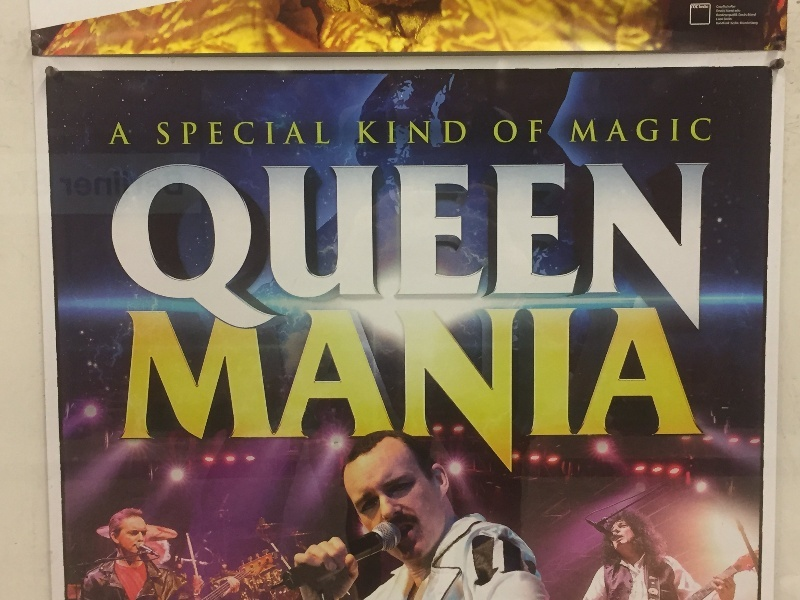text: (705, 310, 721, 477), (113, 161, 128, 334), (129, 161, 144, 334), (145, 161, 160, 334), (161, 161, 176, 334), (177, 161, 192, 334), (193, 161, 208, 334), (209, 161, 224, 334), (225, 161, 240, 334), (241, 161, 256, 334), (257, 161, 272, 334), (273, 161, 288, 334), (289, 161, 304, 334), (305, 161, 320, 334), (321, 161, 336, 334), (337, 161, 352, 334), (353, 161, 368, 334), (369, 161, 384, 334), (385, 161, 400, 334), (401, 161, 416, 334), (417, 161, 432, 334), (433, 161, 448, 334), (449, 161, 464, 334), (465, 161, 480, 334), (481, 161, 496, 334), (497, 161, 512, 334), (513, 161, 528, 334), (529, 161, 544, 334), (545, 161, 560, 334), (561, 161, 576, 334), (577, 161, 592, 334), (593, 161, 608, 334), (609, 161, 624, 334), (625, 161, 640, 334), (641, 161, 656, 334), (657, 161, 672, 334), (673, 161, 688, 334), (689, 161, 704, 334), (129, 310, 144, 477), (145, 310, 160, 477), (161, 310, 176, 477), (177, 310, 192, 477), (193, 310, 208, 477), (209, 310, 224, 477), (225, 310, 240, 477), (241, 310, 256, 477), (257, 310, 272, 477), (273, 310, 288, 477), (289, 310, 304, 477), (305, 310, 320, 477), (321, 310, 336, 477), (337, 310, 352, 477), (353, 310, 368, 477), (369, 310, 384, 477), (385, 310, 400, 477), (401, 310, 416, 477), (417, 310, 432, 477), (433, 310, 448, 477), (449, 310, 464, 477), (465, 310, 480, 477), (481, 310, 496, 477), (497, 310, 512, 477), (513, 310, 528, 477), (529, 310, 544, 477), (545, 310, 560, 477), (561, 310, 576, 477), (577, 310, 592, 477), (593, 310, 608, 477), (609, 310, 624, 477), (625, 310, 640, 477), (641, 310, 656, 477), (657, 310, 672, 477), (673, 310, 688, 477), (689, 310, 704, 477), (705, 161, 712, 334), (161, 121, 176, 147), (177, 121, 192, 147), (193, 121, 208, 147), (209, 121, 224, 147), (225, 121, 240, 147), (241, 121, 256, 147), (257, 121, 272, 147), (273, 121, 288, 147), (289, 121, 304, 147), (305, 121, 320, 147), (369, 120, 384, 145), (385, 120, 400, 145), (401, 120, 416, 145), (417, 120, 432, 145), (433, 120, 448, 145), (449, 120, 464, 145), (577, 118, 592, 143), (593, 118, 608, 143), (609, 118, 624, 143), (625, 118, 640, 143), (641, 118, 656, 143), (657, 118, 672, 143), (673, 118, 688, 143), (689, 118, 704, 143), (497, 120, 512, 144), (513, 120, 528, 144), (529, 120, 544, 144), (116, 119, 128, 148), (721, 5, 736, 26), (737, 5, 752, 26), (356, 120, 368, 145), (321, 121, 332, 147), (705, 118, 712, 143), (129, 119, 133, 148), (465, 120, 469, 145), (753, 5, 757, 26), (717, 5, 720, 26), (158, 121, 160, 147), (691, 5, 704, 9), (574, 118, 576, 143), (494, 120, 496, 144), (705, 5, 709, 9)
